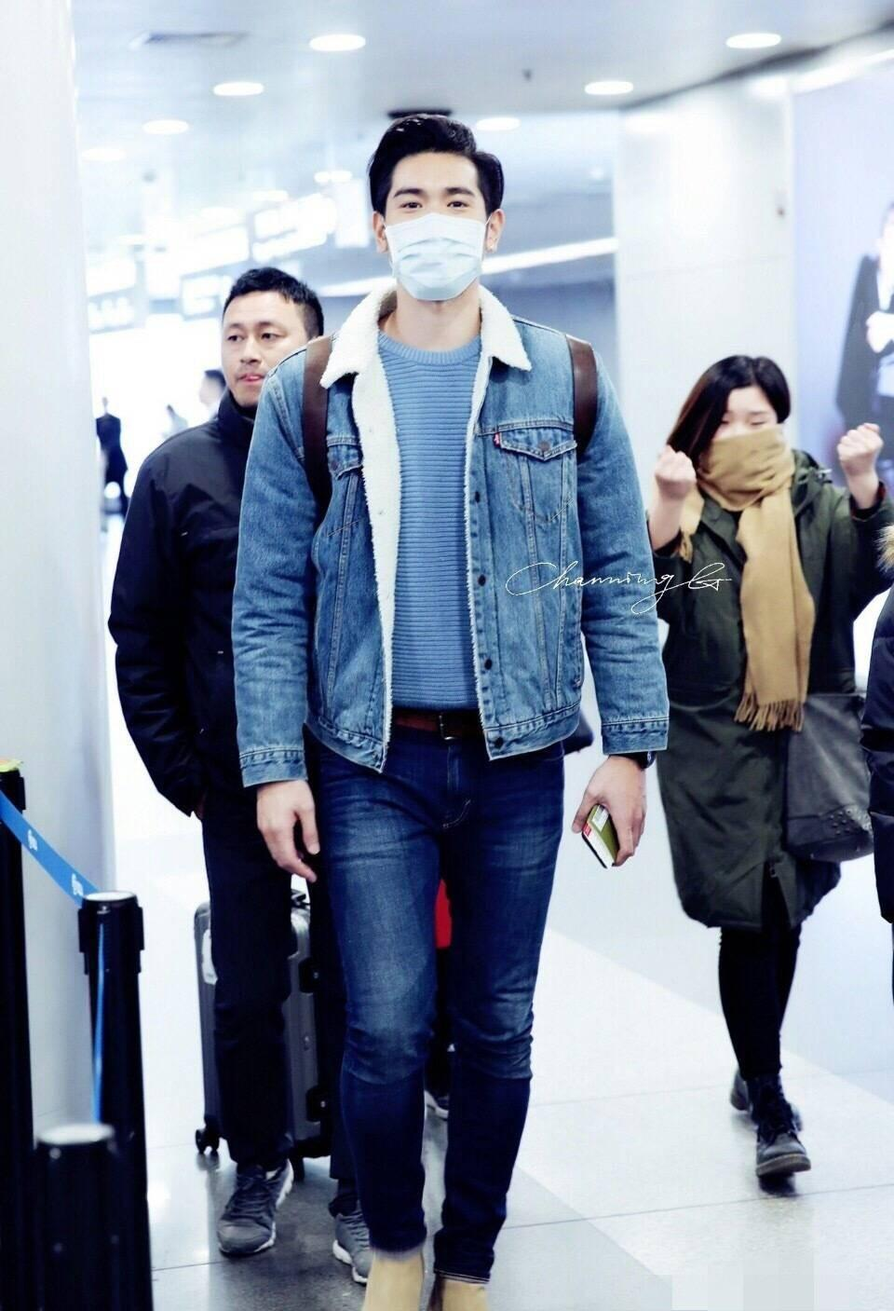NONE: (219, 318, 291, 408), (710, 400, 779, 472)
OK: (372, 172, 502, 303)
